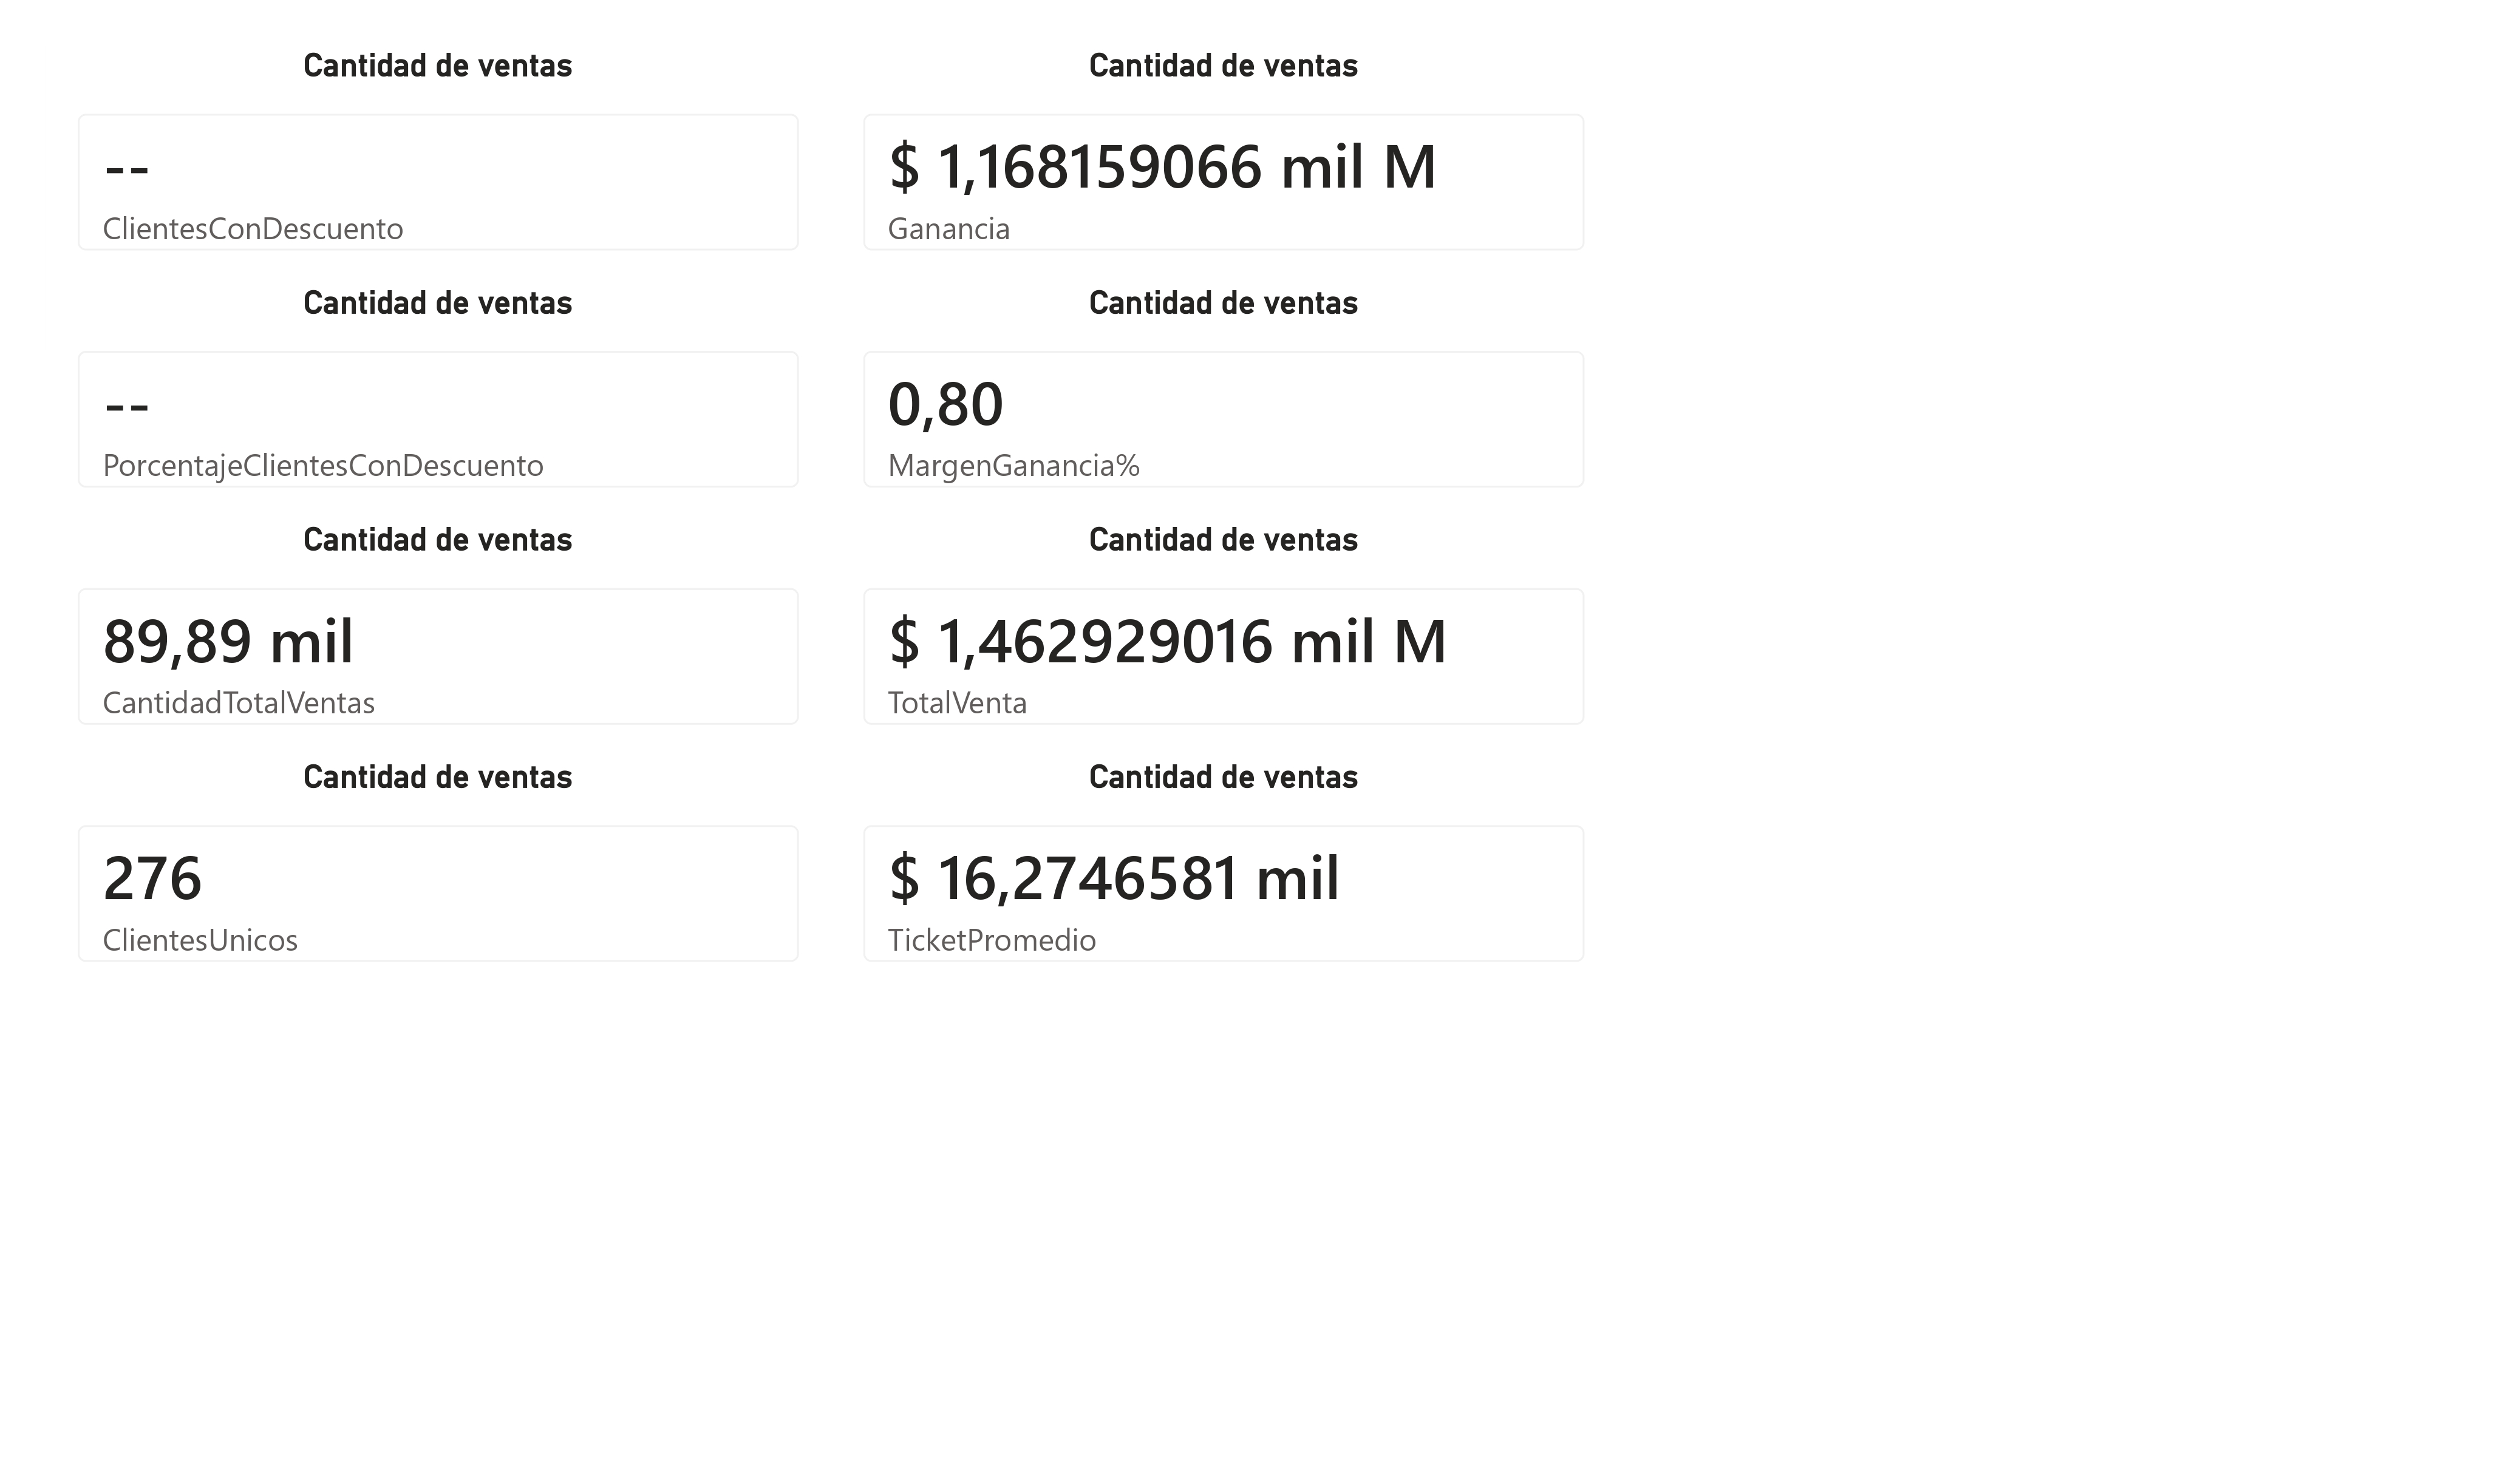

This screenshot's page, from the dashboard's own definition file:
{"tool":"powerbi","page":{"name":"Página 2","canvas":[1280,720],"ordinal":1},"visuals":[{"type":"cardVisual","title":"Cantidad de ventas","fields":{"Data":["Medidas.ClientesConDescuento"]},"box":[0,0,413.8,125.1],"z":0},{"type":"cardVisual","title":"Cantidad de ventas","fields":{"Data":["Medidas.PorcentajeClientesConDescuento"]},"box":[0,125.1,413.8,125.1],"z":1000},{"type":"cardVisual","title":"Cantidad de ventas","fields":{"Data":["Medidas.CantidadTotalVentas"]},"box":[0,250.2,413.8,125.1],"z":2000},{"type":"cardVisual","title":"Cantidad de ventas","fields":{"Data":["Medidas.ClientesUnicos"]},"box":[0,375.3,413.8,125.1],"z":3000},{"type":"cardVisual","title":"Cantidad de ventas","fields":{"Data":["Medidas.Ganancia"]},"box":[413.8,0,413.8,125.1],"z":4000},{"type":"cardVisual","title":"Cantidad de ventas","fields":{"Data":["Medidas.MargenGanancia%"]},"box":[413.8,125.1,413.8,125.1],"z":5000},{"type":"cardVisual","title":"Cantidad de ventas","fields":{"Data":["Medidas.TotalVenta"]},"box":[413.8,250.2,413.8,125.1],"z":6000},{"type":"cardVisual","title":"Cantidad de ventas","fields":{"Data":["Medidas.TicketPromedio"]},"box":[413.8,375.3,413.8,125.1],"z":7000}]}

Visuals, with their boxes on the page's 1280x720 design canvas (x1, y1, x2, y2). These are canvas units, not pixel positions in the 2520x1457 screenshot, which may show the page scaled, cropped or inside an application window:
"Cantidad de ventas" cardVisual: crop(0, 0, 414, 125)
"Cantidad de ventas" cardVisual: crop(0, 125, 414, 250)
"Cantidad de ventas" cardVisual: crop(0, 250, 414, 375)
"Cantidad de ventas" cardVisual: crop(0, 375, 414, 500)
"Cantidad de ventas" cardVisual: crop(414, 0, 828, 125)
"Cantidad de ventas" cardVisual: crop(414, 125, 828, 250)
"Cantidad de ventas" cardVisual: crop(414, 250, 828, 375)
"Cantidad de ventas" cardVisual: crop(414, 375, 828, 500)
